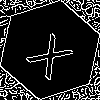X: (25, 25, 82, 81)
